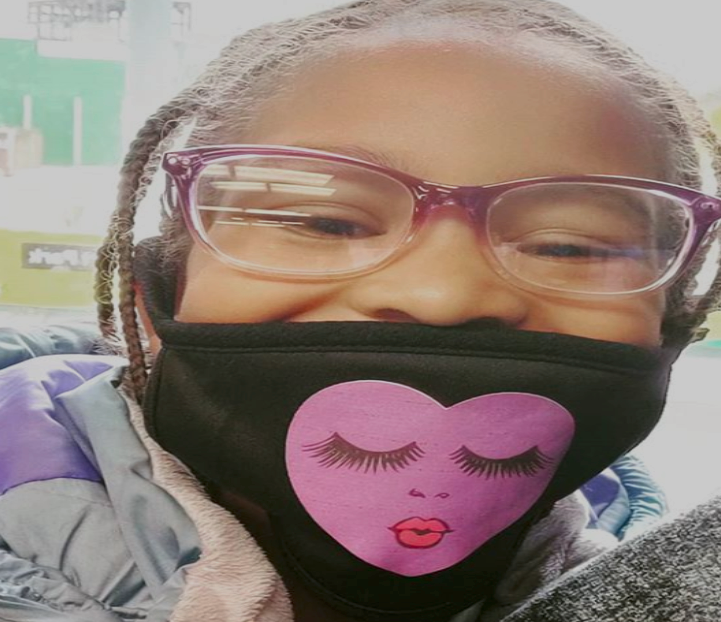mask_weared_incorrect: (101, 2, 721, 620)
